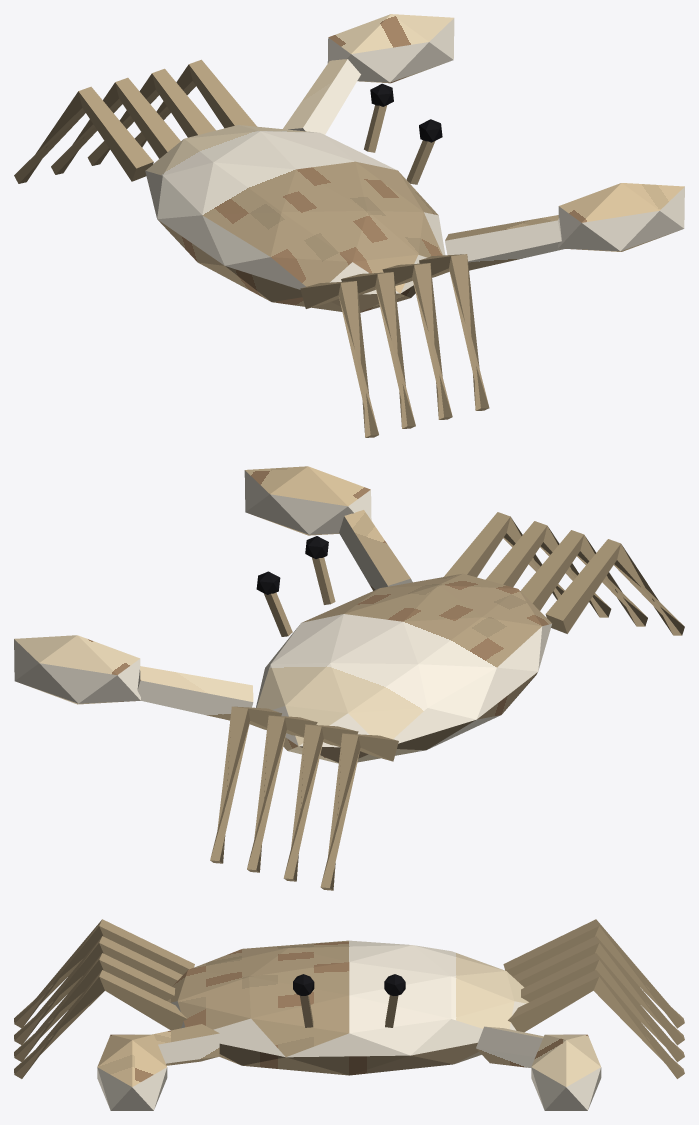
Rendered from sand_crab.glb.
3 renders of one model, top to bottom at view 1: azimuth 30°, elevation 25°; view 2: azimuth 150°, elevation 25°; view 3: azimuth 270°, elevation 25°, orthographic. The views are drawn at different scales.
Parts seen in each view (by area): view 1: fish_sand_crab; view 2: fish_sand_crab; view 3: fish_sand_crab.
Part boxes in pixels (box(x1,y1,x2,y2)): fish_sand_crab: box(14, 14, 684, 437); fish_sand_crab: box(14, 466, 684, 890); fish_sand_crab: box(14, 919, 684, 1110).
Bounding box in the file's own units: 0.7228 × 0.2887 × 1.17.
3 materials, 1 textured.
